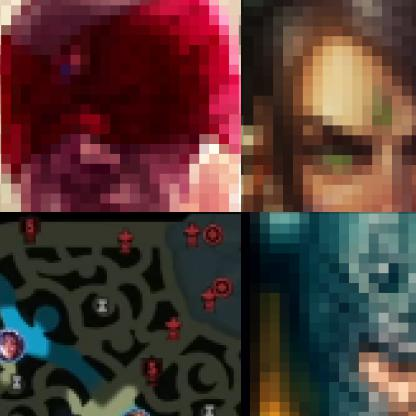Irelia: (0, 329, 26, 363)
Leblanc: (120, 408, 156, 415)
Lee Sin: (0, 0, 240, 211)
Nidalee: (241, 0, 415, 211)
Olaf: (241, 212, 415, 415)
